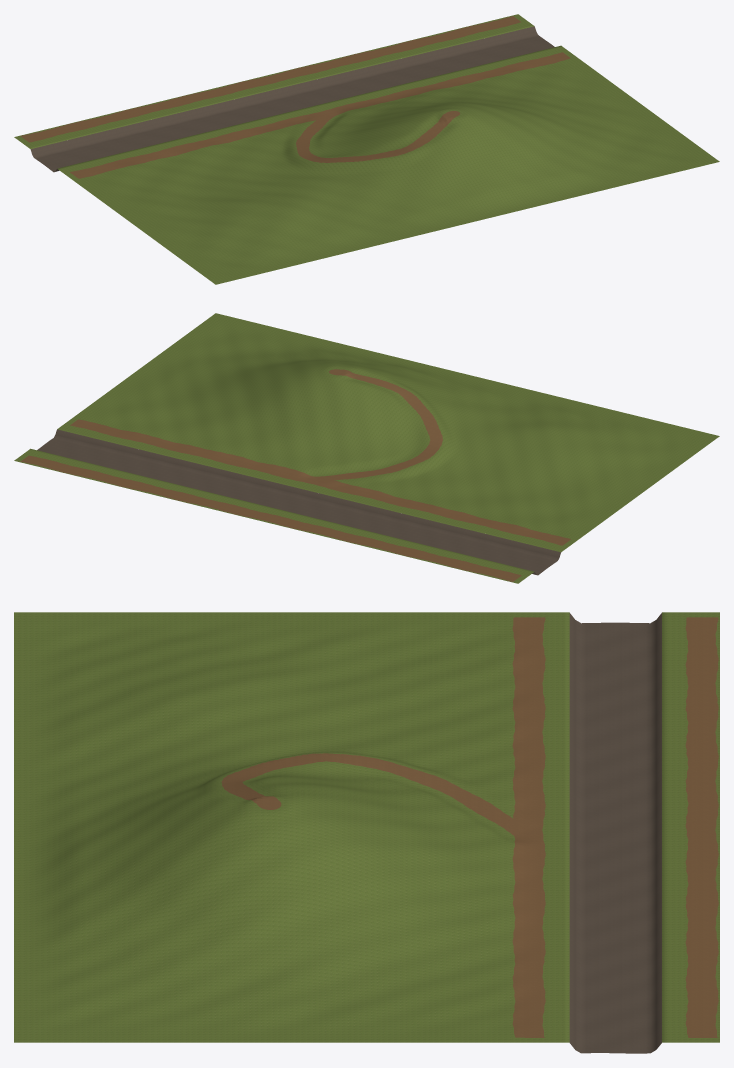
Rendered from expansion-terrain.glb.
The picture shows the model from 3 angles, top to bottom: view 1: azimuth 30°, elevation 25°; view 2: azimuth 150°, elevation 25°; view 3: azimuth 270°, elevation 25°; orthographic projection. The views are drawn at different scales.
Parts seen in each view (by area): view 1: Expansion_Heightfield_Ground, River_North_Walkway, River_South_Walkway, Hill_Ascent_Trail; view 2: Expansion_Heightfield_Ground, River_South_Walkway, River_North_Walkway, Hill_Ascent_Trail; view 3: Expansion_Heightfield_Ground, River_North_Walkway, River_South_Walkway, Hill_Ascent_Trail.
Part boxes in pixels (bbox=[...]): Expansion_Heightfield_Ground: bbox=[14, 14, 719, 284]; River_North_Walkway: bbox=[20, 16, 520, 142]; River_South_Walkway: bbox=[70, 52, 570, 178]; Hill_Ascent_Trail: bbox=[296, 112, 456, 162]; Expansion_Heightfield_Ground: bbox=[14, 313, 719, 583]; River_South_Walkway: bbox=[70, 419, 570, 545]; River_North_Walkway: bbox=[21, 455, 521, 581]; Hill_Ascent_Trail: bbox=[315, 369, 442, 481]; Expansion_Heightfield_Ground: bbox=[14, 612, 719, 1053]; River_North_Walkway: bbox=[685, 617, 718, 1037]; River_South_Walkway: bbox=[512, 617, 545, 1037]; Hill_Ascent_Trail: bbox=[221, 753, 529, 835].
Bounding box in the file's own units: 88 × 7.98 × 61.
Materials: 3 (3 with a texture image).
